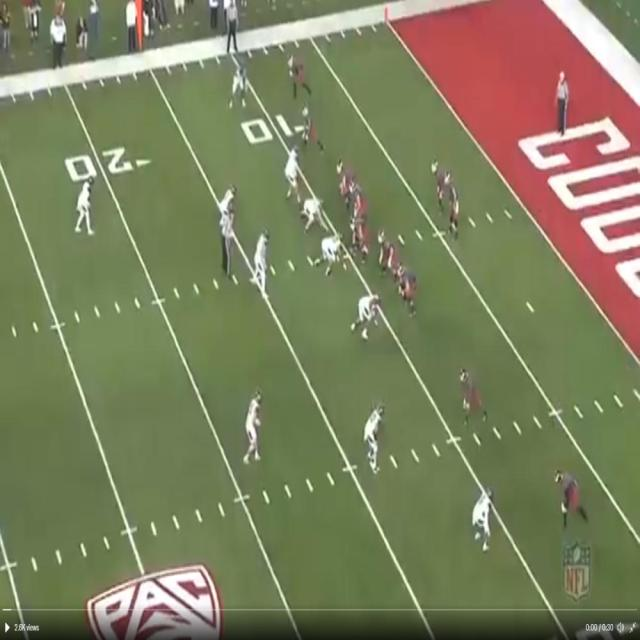center: (348, 216, 367, 254)
db: (127, 575, 146, 637), (247, 396, 264, 463), (474, 492, 492, 547), (368, 405, 383, 470), (74, 180, 92, 232), (231, 65, 246, 105)
lb: (223, 186, 237, 248), (284, 148, 300, 198), (255, 231, 268, 288)
qb: (447, 169, 464, 236)
skill: (458, 360, 486, 418), (552, 467, 581, 517), (286, 55, 307, 93), (303, 108, 320, 144), (434, 158, 444, 205)
